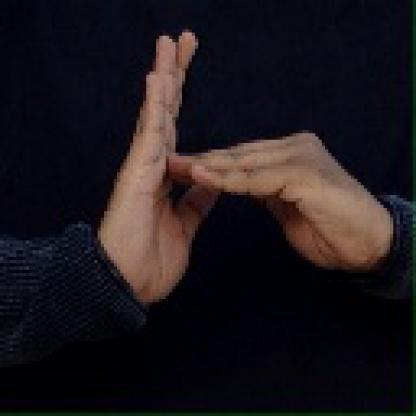Z: (90, 25, 362, 288)
